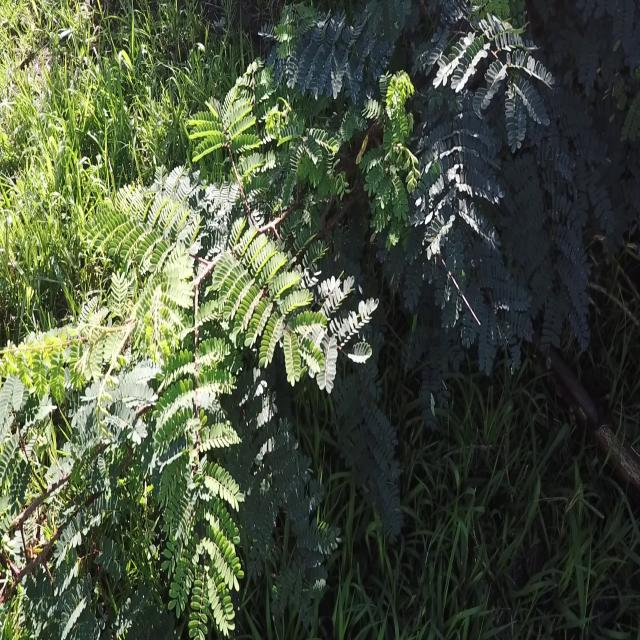Mysore-Thorn-Weed: (87, 94, 409, 552), (259, 0, 632, 375), (0, 172, 232, 640)
